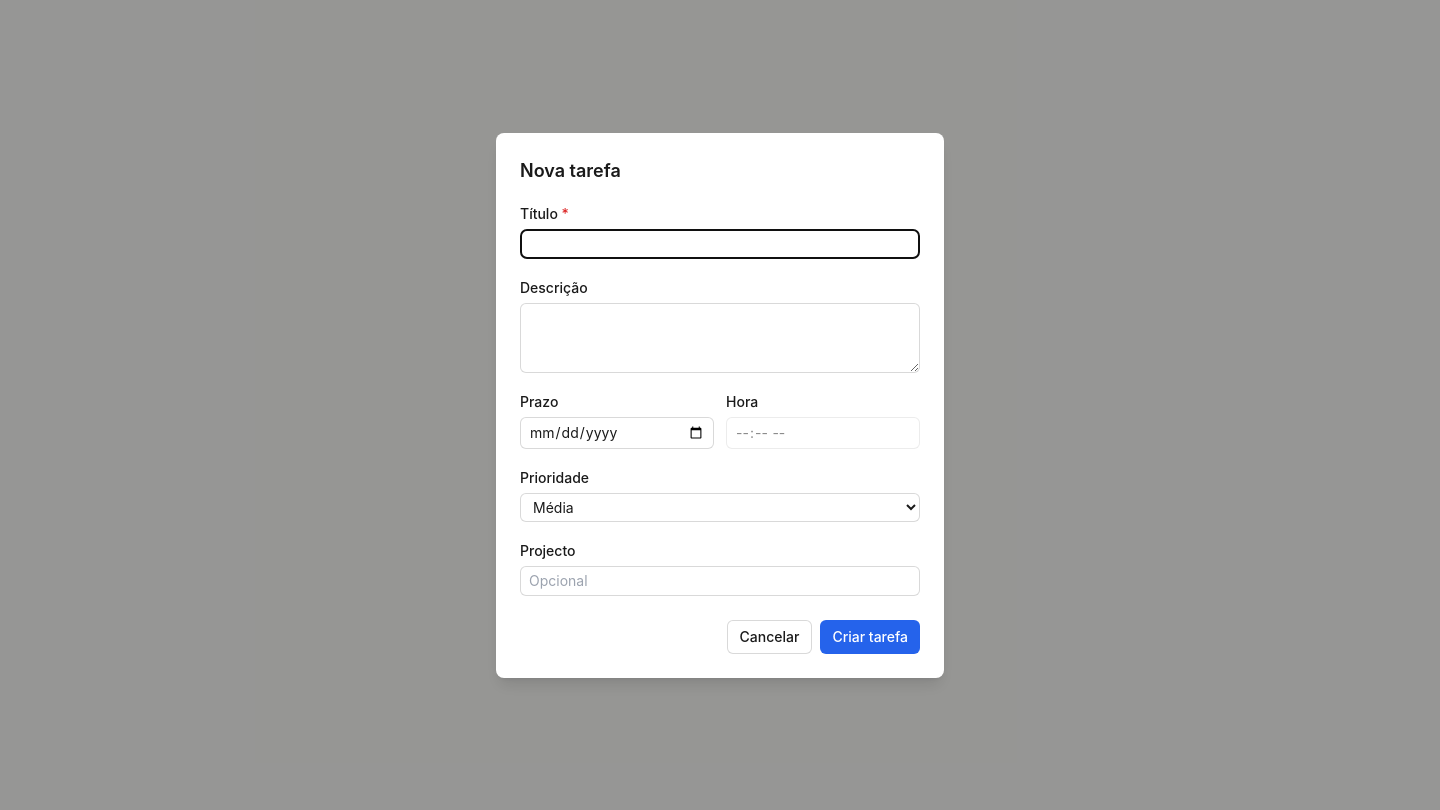
Test: <NewTaskModal> › título vazio bloqueia submit e mostra erro — sem POST
Click the button "Criar tarefa": click(870, 636) [820,620,920,654]
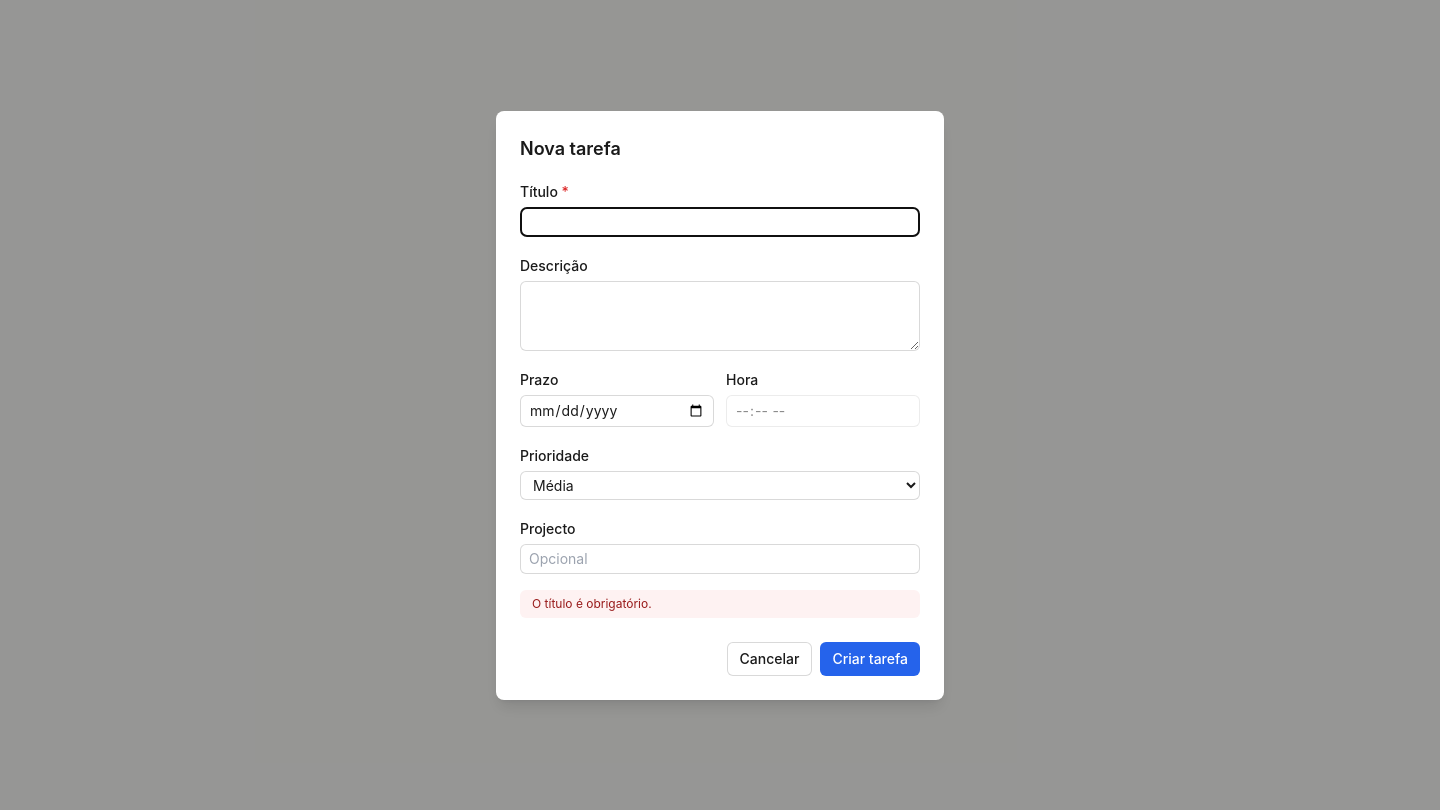
Check: the message shows "título é obrigatório", box [532,596,652,610]
